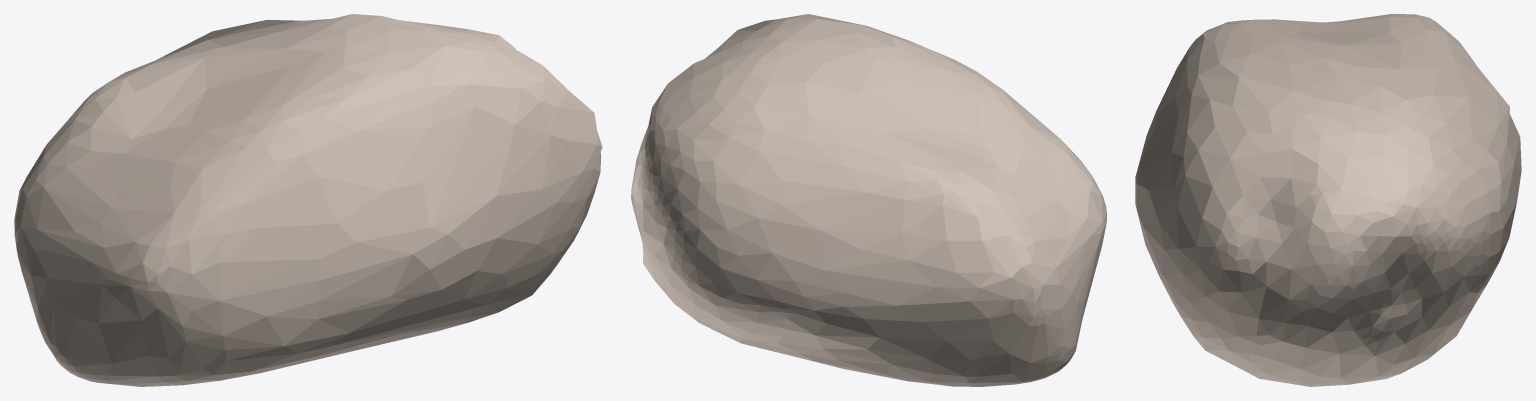
The model's file is kamen2.FBX.
The picture shows the model from 3 angles, left to right: view 1: azimuth 30°, elevation 25°; view 2: azimuth 150°, elevation 25°; view 3: azimuth 270°, elevation 25°; orthographic projection. The views are drawn at different scales.
Visible parts, largest first — view 1: Rock.Landscape.Style_2; view 2: Rock.Landscape.Style_2; view 3: Rock.Landscape.Style_2.
Part boxes in pixels (x1=…): Rock.Landscape.Style_2: x1=14, y1=14, x2=602, y2=386; Rock.Landscape.Style_2: x1=631, y1=14, x2=1106, y2=386; Rock.Landscape.Style_2: x1=1135, y1=14, x2=1521, y2=386.
Size of the model in its own units: 3.25 by 1.88 by 2.25.
